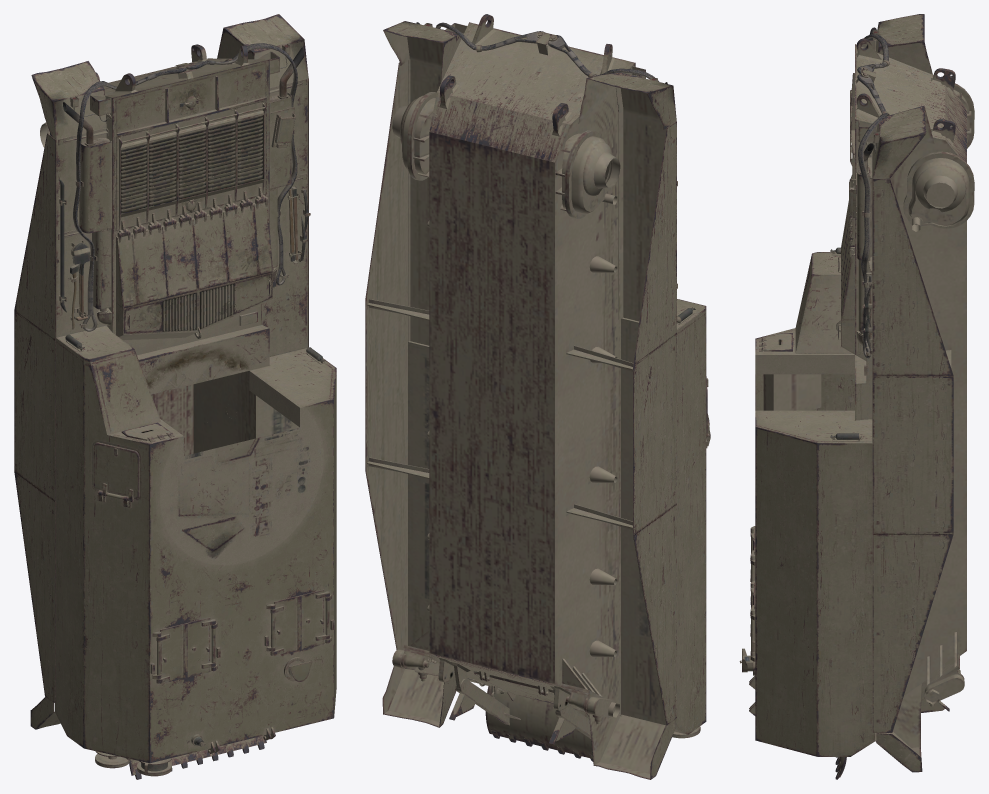
File: Hull.glb
3 views of the same model, side by side, from view 1: azimuth 30°, elevation 25°; view 2: azimuth 150°, elevation 25°; view 3: azimuth 270°, elevation 25° (orthographic). The views are drawn at different scales.
Parts seen in each view (by area): view 1: set_0_group_0; view 2: set_0_group_0; view 3: set_0_group_0.
Part boxes in pixels (left/top/right/bottom): set_0_group_0: left=14, top=14, right=336, bottom=779; set_0_group_0: left=365, top=14, right=710, bottom=779; set_0_group_0: left=739, top=14, right=974, bottom=779.
Bounding box in the file's own units: 3.32 × 8.6 × 2.68.
1 material, 1 textured.
